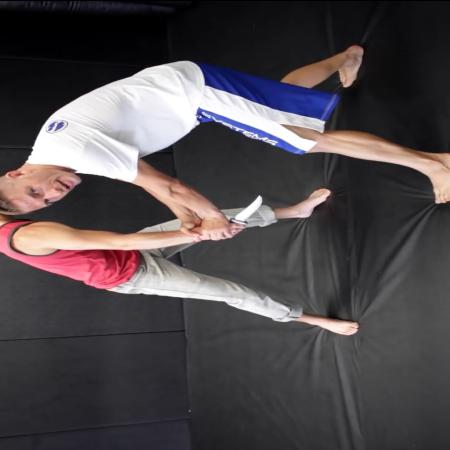long weapon: (222, 192, 270, 239)
